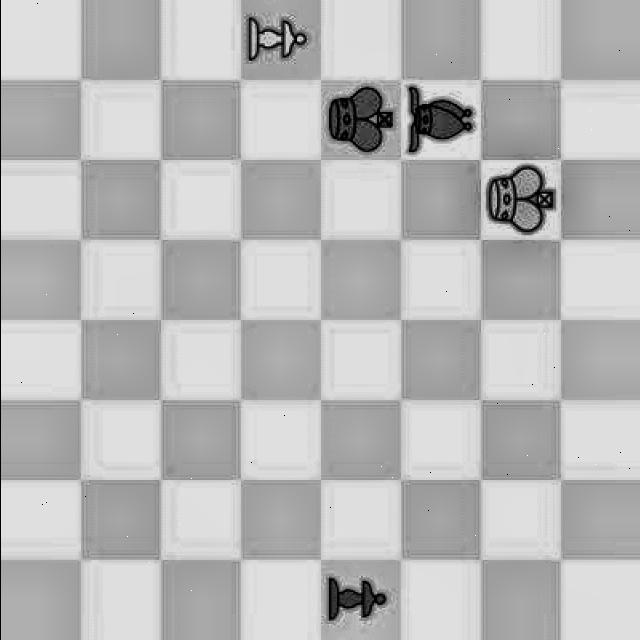black bishop: (398, 87, 474, 163)
black king: (321, 85, 389, 154)
black pawn: (325, 570, 392, 630)
white king: (478, 159, 558, 240)
white pawn: (250, 21, 326, 59)
